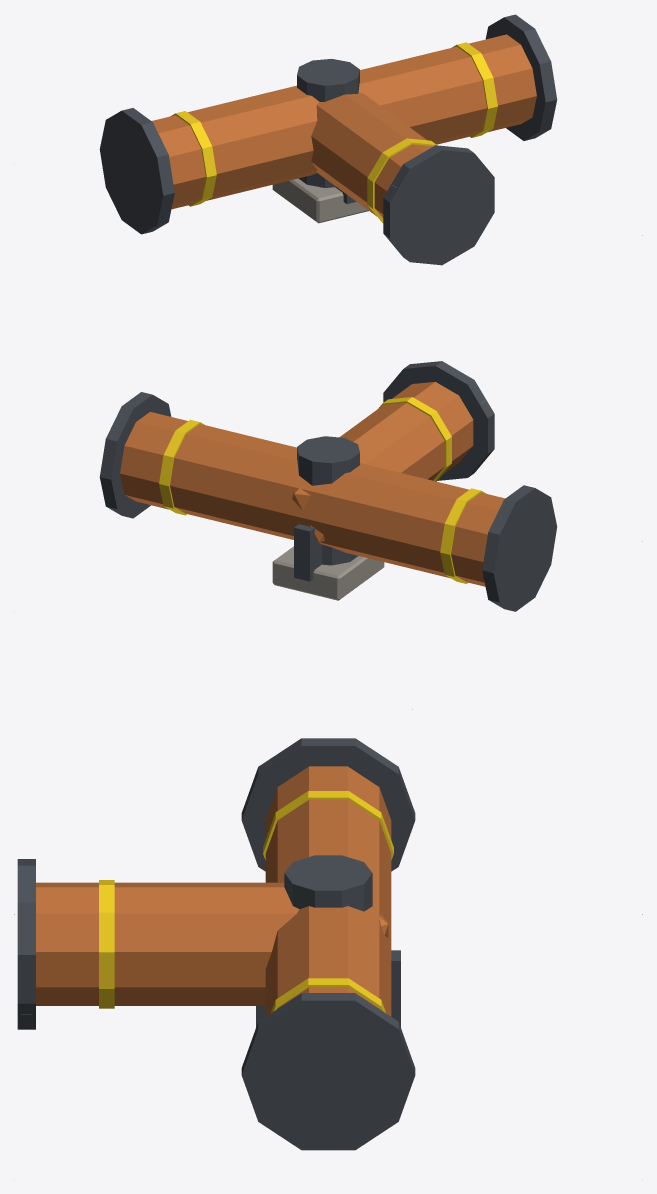
File: tuyau_te_t1.glb
The picture shows the model from 3 angles, top to bottom: view 1: azimuth 30°, elevation 25°; view 2: azimuth 150°, elevation 25°; view 3: azimuth 270°, elevation 25°; orthographic projection. The views are drawn at different scales.
Visible parts, largest first — view 1: pieces_cuivre.016, pieces_acier_sombre.044, pieces_rive_t1.014, pieces_beton.044; view 2: pieces_cuivre.016, pieces_acier_sombre.044, pieces_rive_t1.014, pieces_beton.044; view 3: pieces_cuivre.016, pieces_acier_sombre.044, pieces_rive_t1.014.
Part boxes in pixels (x1,y1,x2,y2): pieces_cuivre.016: [152, 34, 536, 217]; pieces_acier_sombre.044: [99, 14, 557, 265]; pieces_rive_t1.014: [171, 42, 497, 222]; pieces_beton.044: [272, 178, 368, 223]; pieces_cuivre.016: [120, 382, 505, 586]; pieces_acier_sombre.044: [99, 361, 557, 611]; pieces_rive_t1.014: [159, 397, 485, 583]; pieces_beton.044: [272, 546, 384, 600]; pieces_cuivre.016: [36, 766, 391, 1016]; pieces_acier_sombre.044: [17, 738, 415, 1150]; pieces_rive_t1.014: [99, 791, 393, 1012].
Size of the model in its own units: 1 by 0.318 by 1.
